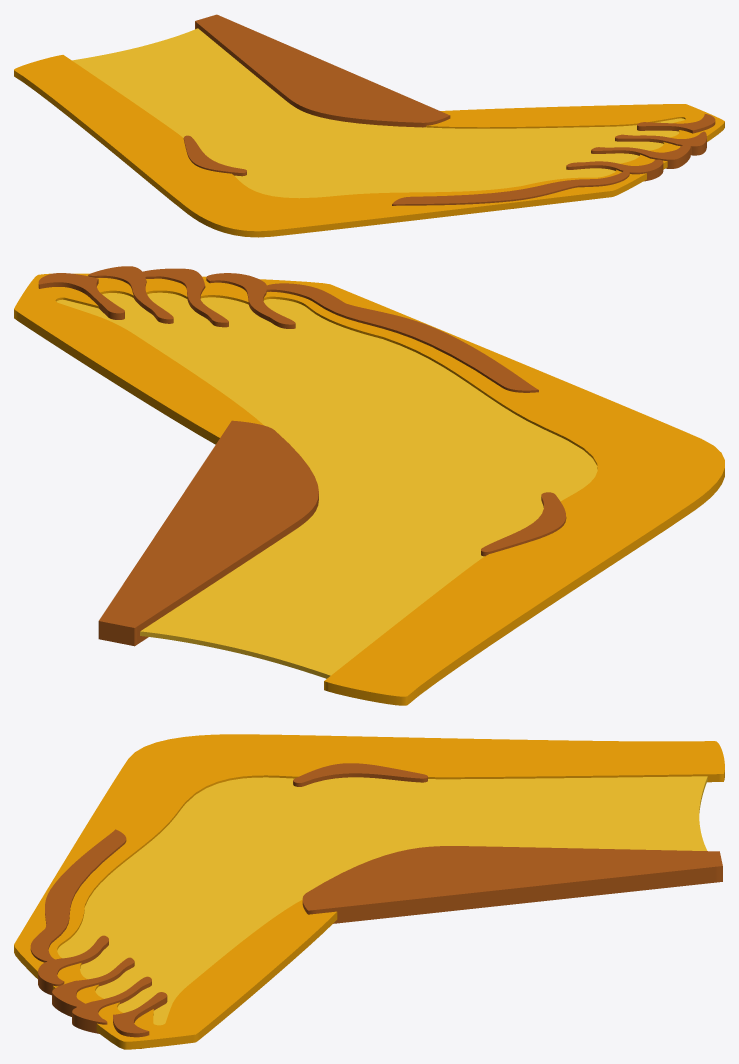
File: emoji_u1f9b6.glb
The picture shows the model from 3 angles, top to bottom: view 1: azimuth 30°, elevation 25°; view 2: azimuth 150°, elevation 25°; view 3: azimuth 270°, elevation 25°; orthographic projection. The views are drawn at different scales.
Visible parts, largest first — view 1: emoji_u1f9b6; view 2: emoji_u1f9b6; view 3: emoji_u1f9b6.
Boxes of the visible parts, x1,y1,x2,y2 form: emoji_u1f9b6: (14, 14, 724, 237); emoji_u1f9b6: (14, 266, 724, 705); emoji_u1f9b6: (14, 734, 724, 1049).
Bounding box in the file's own units: 0.0333 × 0.0008 × 0.0325.
